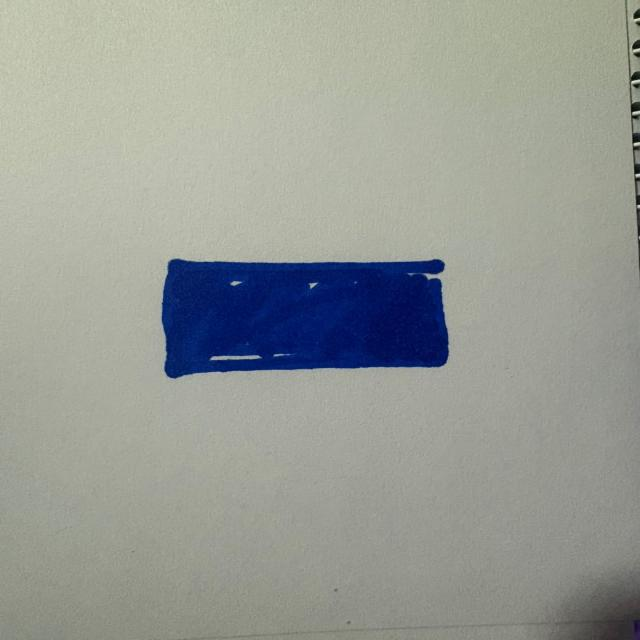Rectangle: (162, 258, 450, 379)
